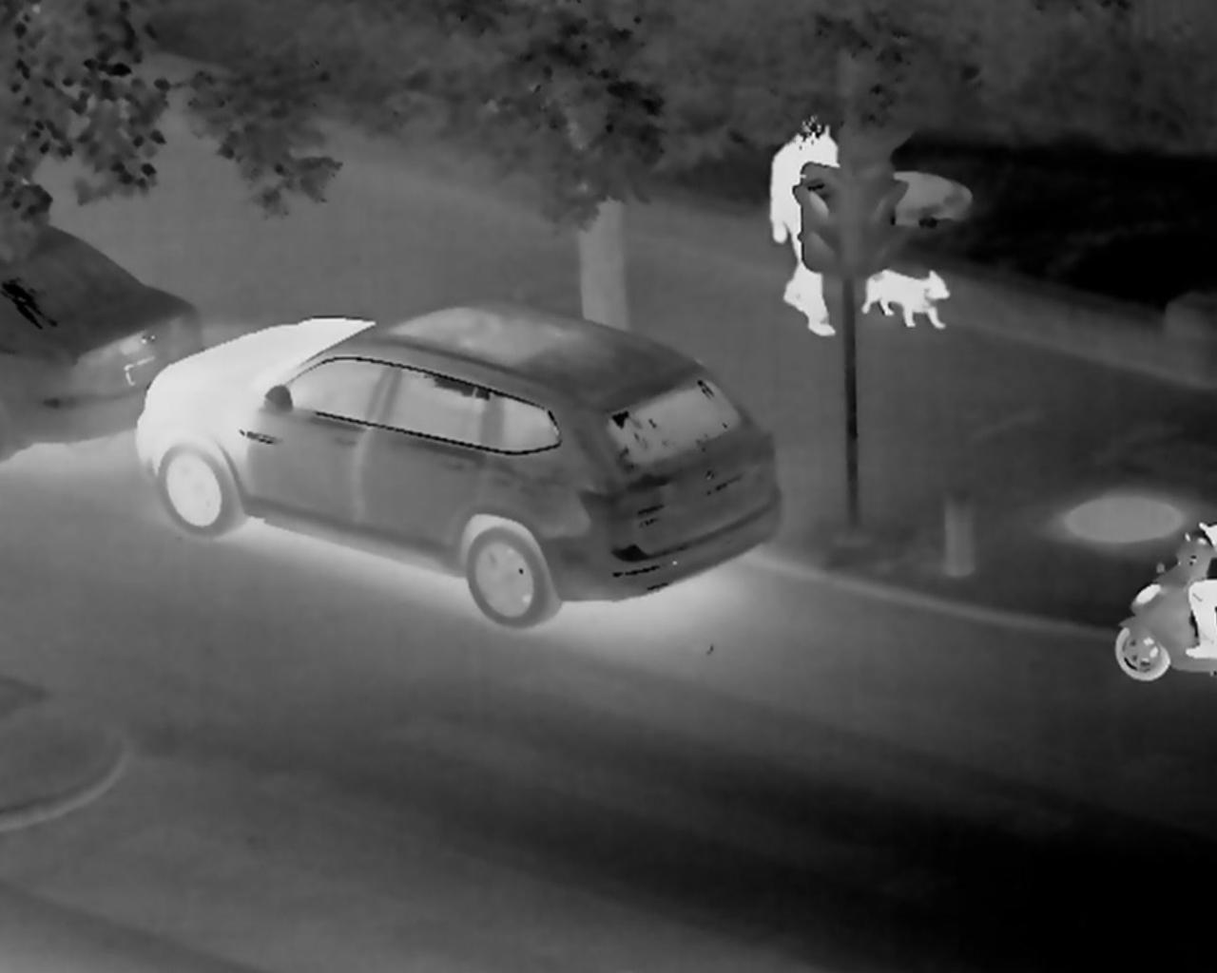person: (763, 96, 842, 354)
